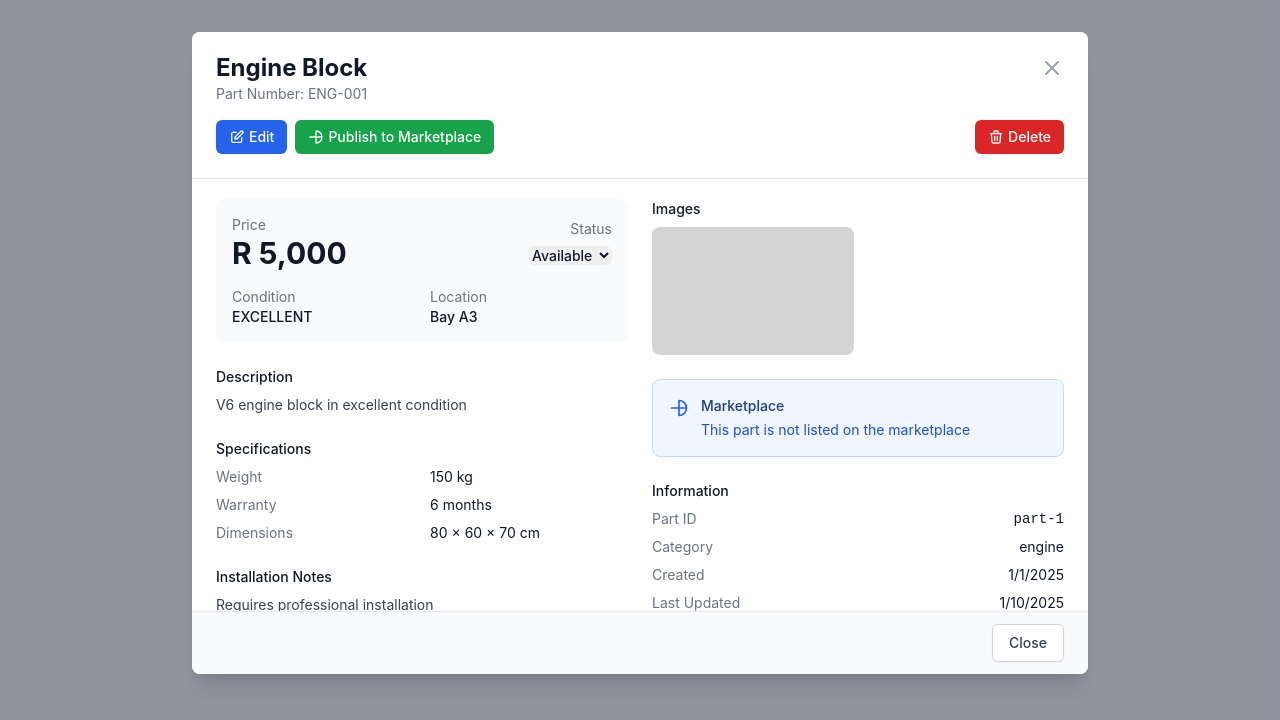
PartDetailsModal › Delete Confirmation › hides confirmation when Cancel is clicked
Click the button "Delete": (1020, 137) [975, 120, 1064, 154]
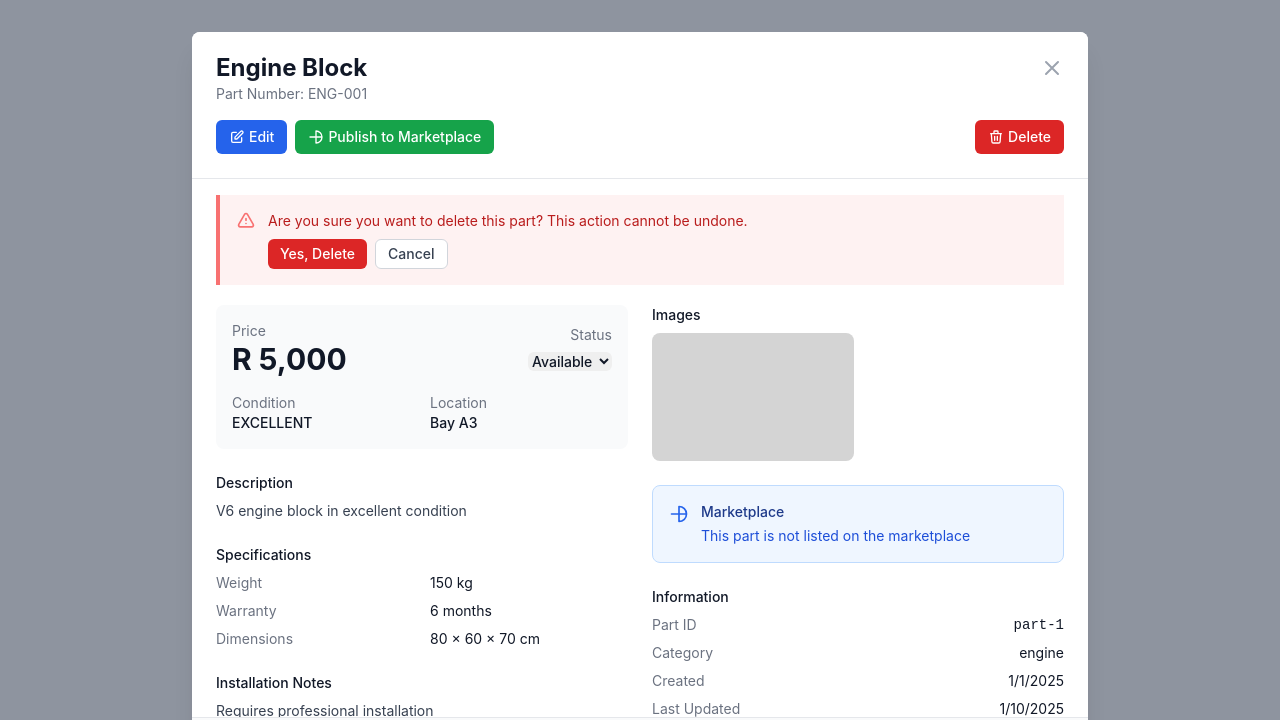
Now the text "Are you sure you want to delete this part" is shown, box [268, 212, 748, 229]
Click the button "Cancel": (411, 254) [375, 239, 448, 269]
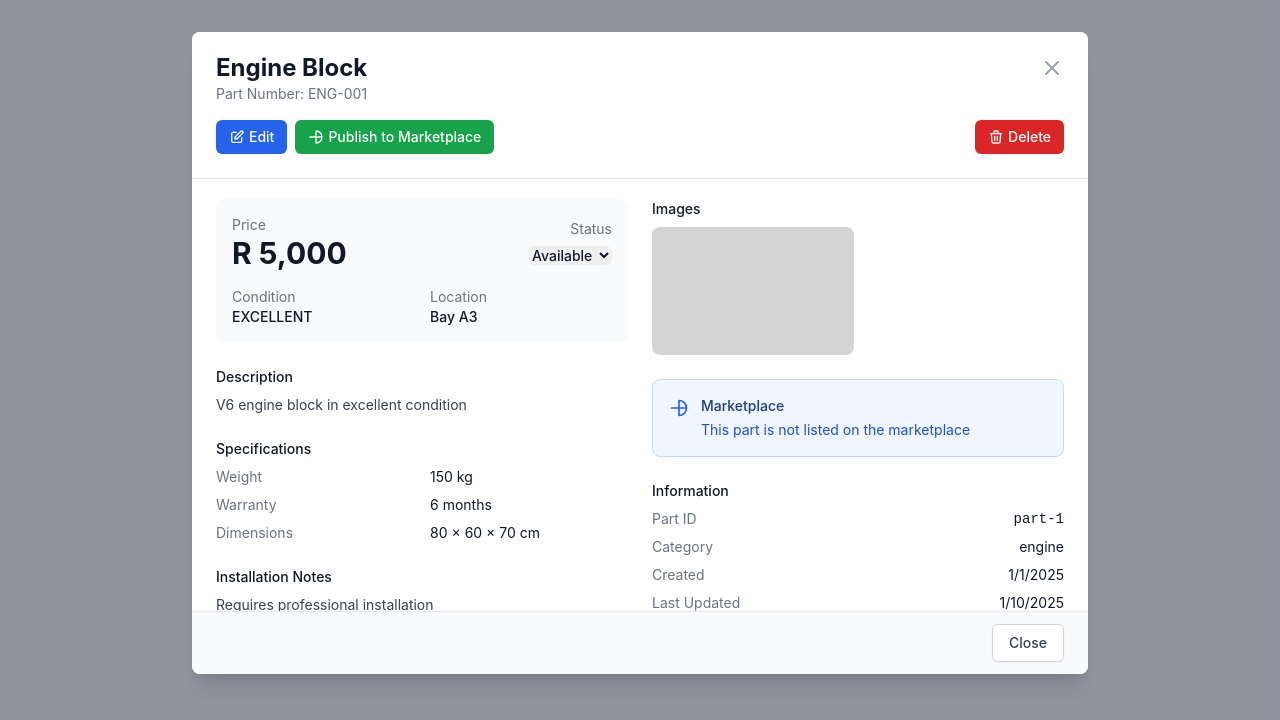
Now the text "Are you sure you want to delete this part" is gone
